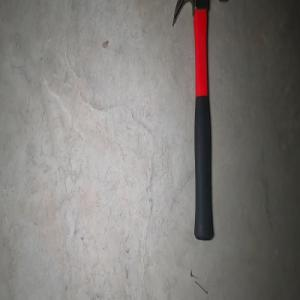Hammer: (171, 0, 231, 243)
